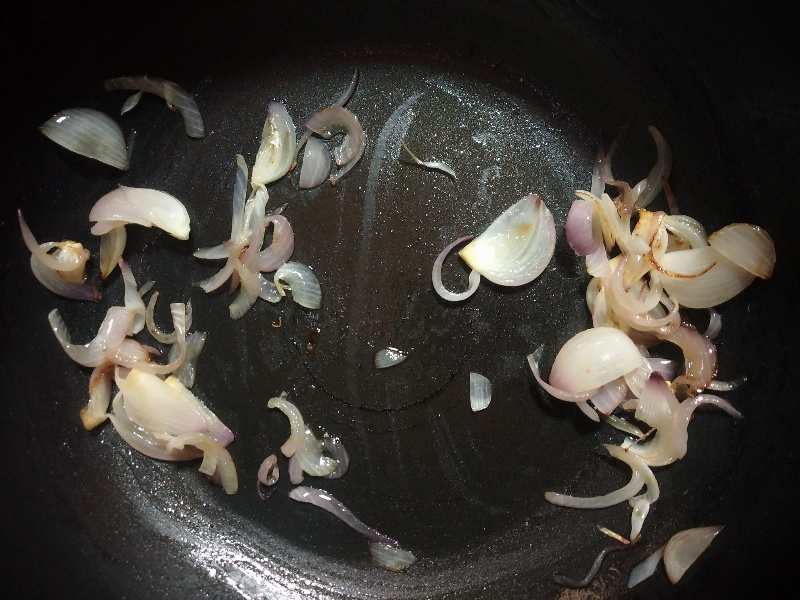onion_golden: (566, 159, 783, 334), (432, 190, 556, 302), (17, 213, 88, 315), (672, 323, 718, 400), (71, 361, 113, 432)
